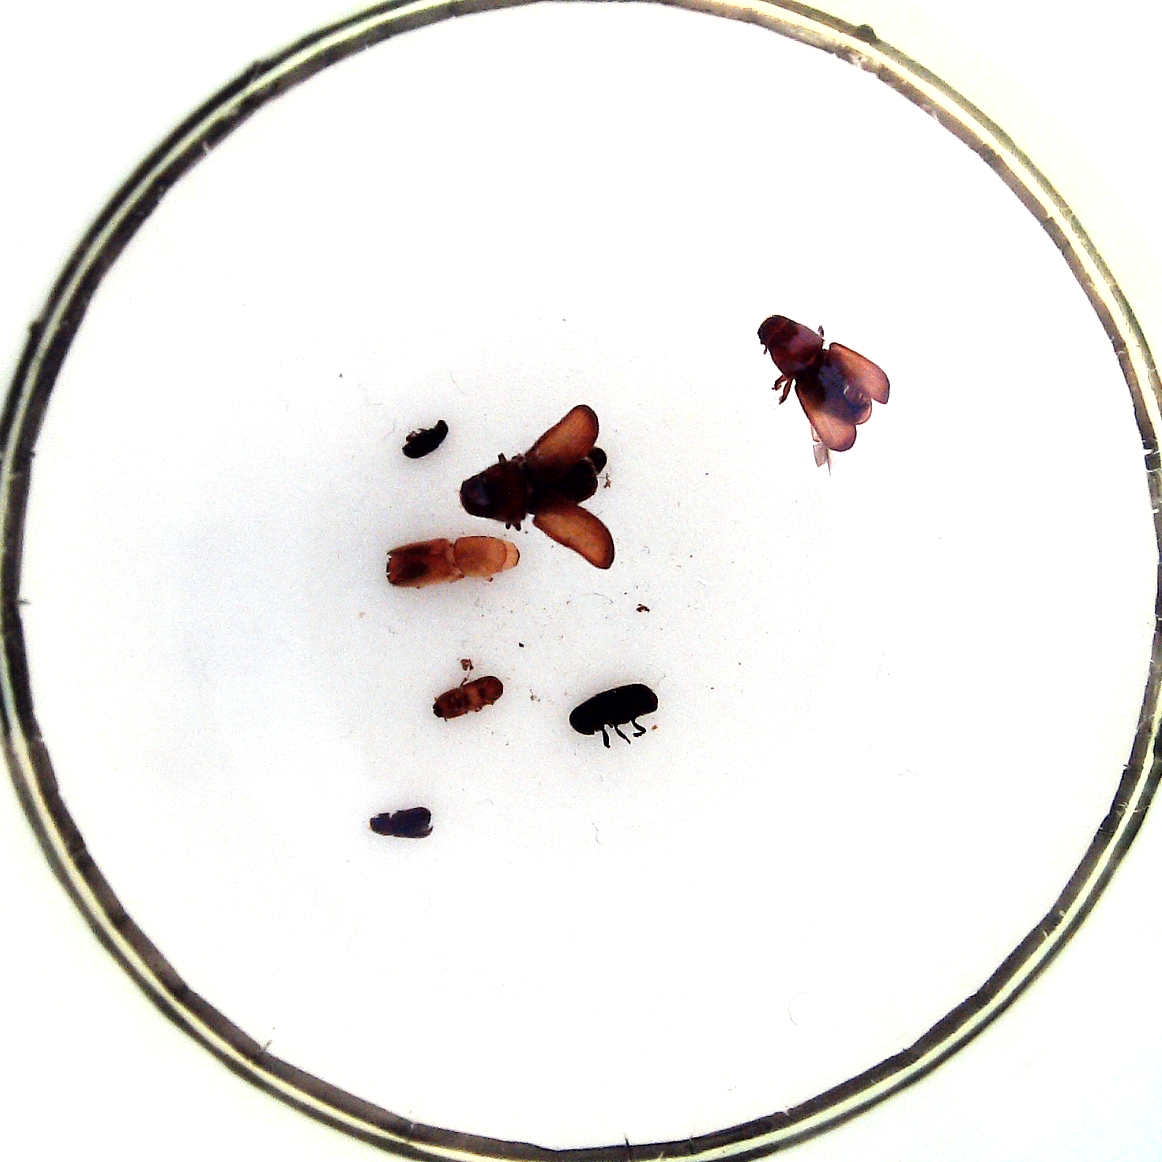Boerner: (386, 536, 520, 590)
Leconte: (757, 316, 874, 426), (460, 447, 607, 524)
acuminatus: (403, 421, 449, 458)
armandi: (570, 683, 657, 735)
coleoptera: (433, 675, 503, 720), (368, 806, 432, 839)
